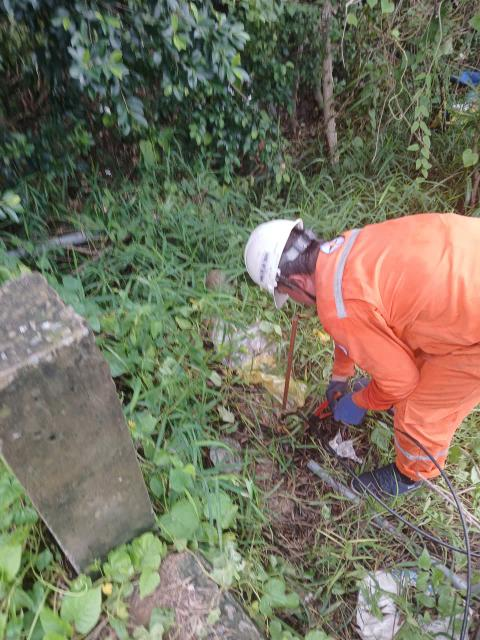gloves: (333, 392, 379, 436), (322, 364, 350, 413)
helmet: (243, 211, 317, 308)
shoes: (345, 455, 437, 504), (353, 370, 412, 417)
